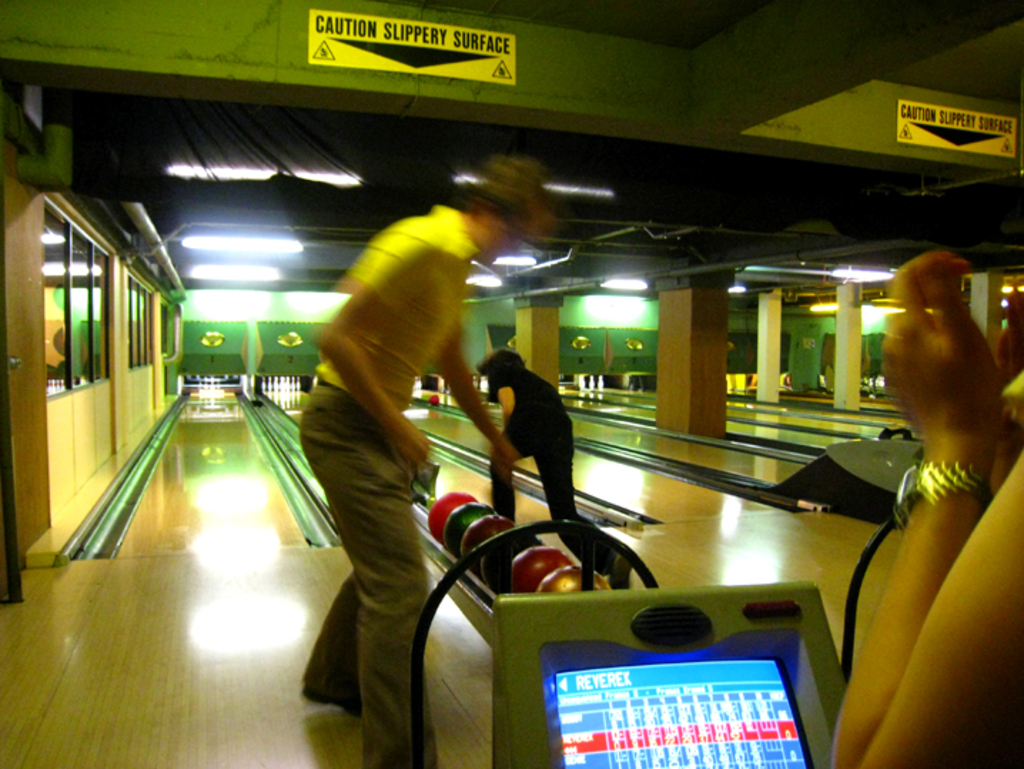Ball: (476, 528, 536, 596), (505, 546, 570, 594), (462, 515, 511, 571), (428, 494, 469, 542), (543, 566, 609, 595), (451, 502, 486, 555)
